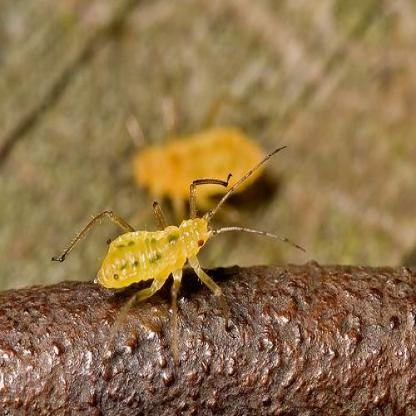aphid: (47, 138, 318, 315)
